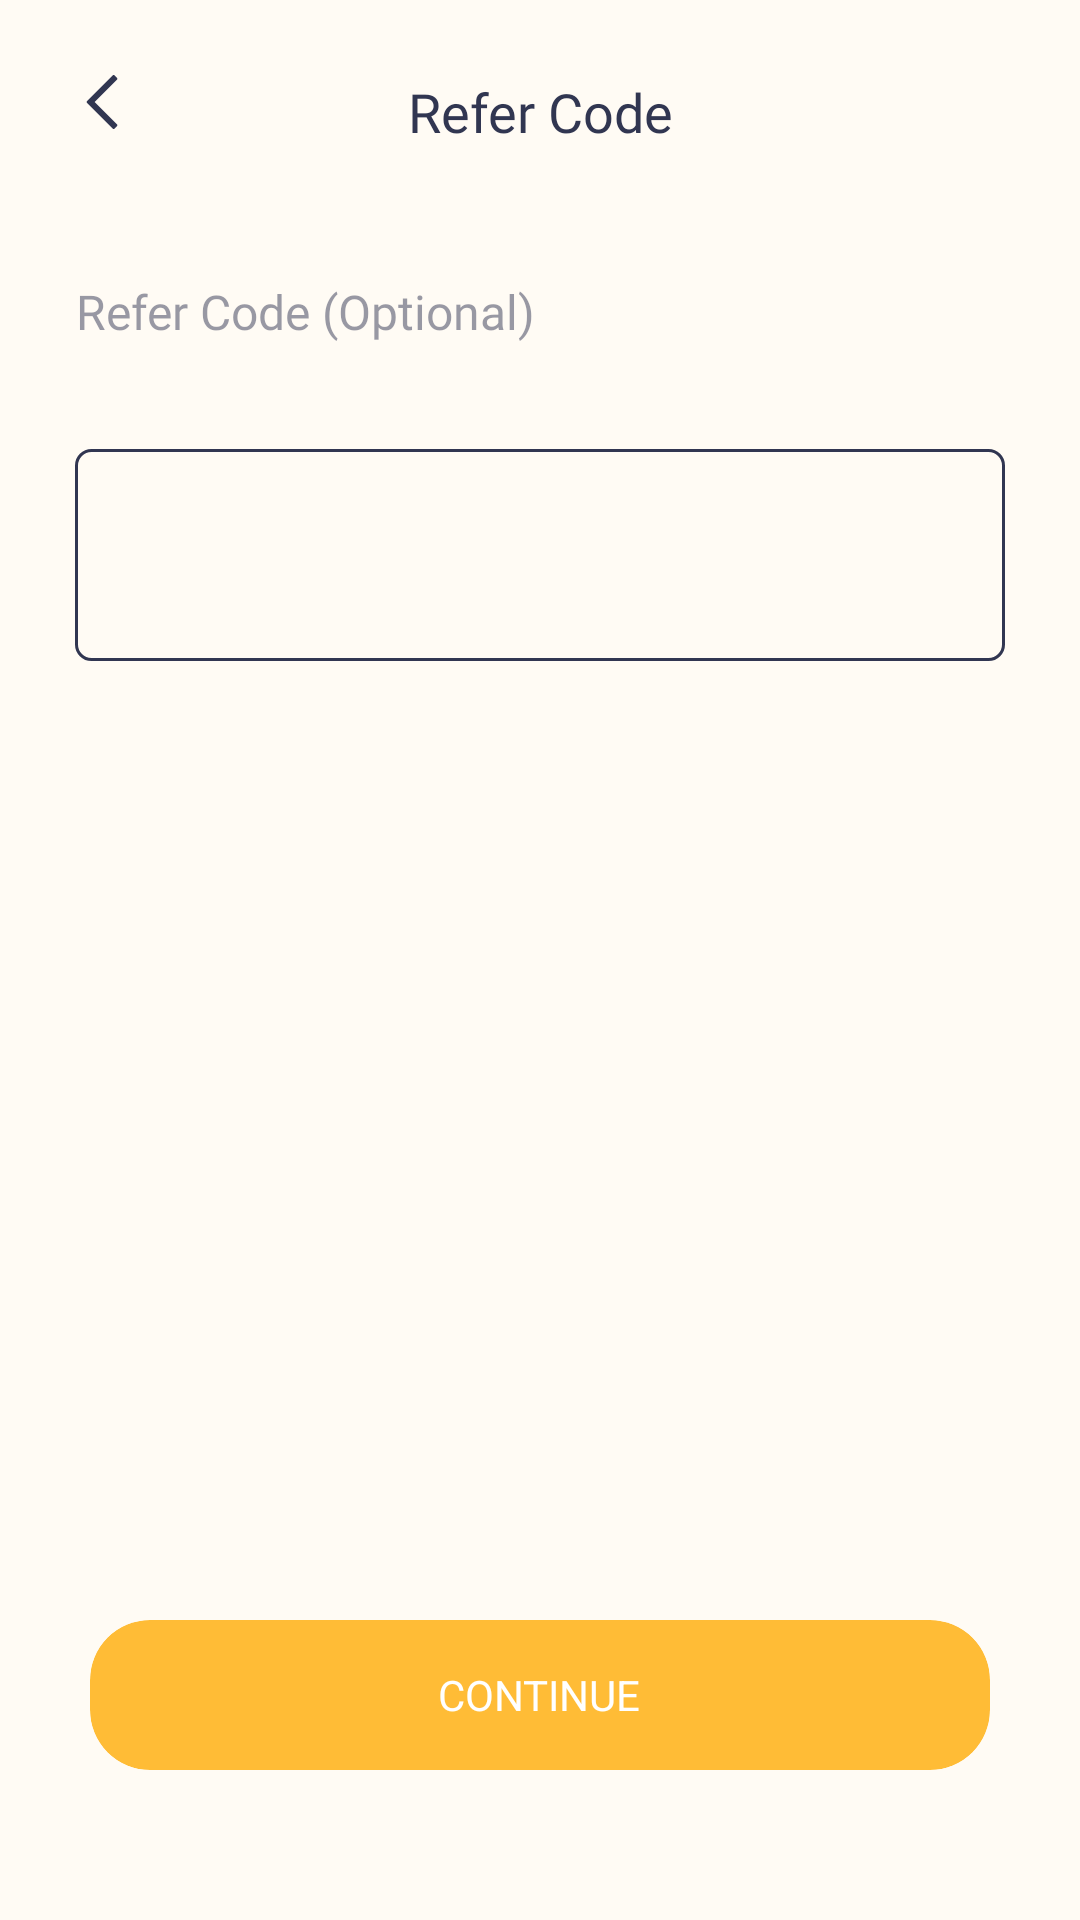

Where to tap for icons on this 1080px x 1920px app screen, as (x,y):
Back: (102,102)
